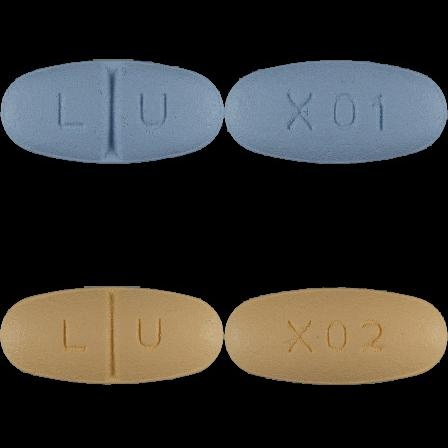33261-644: (0, 0, 224, 224)
